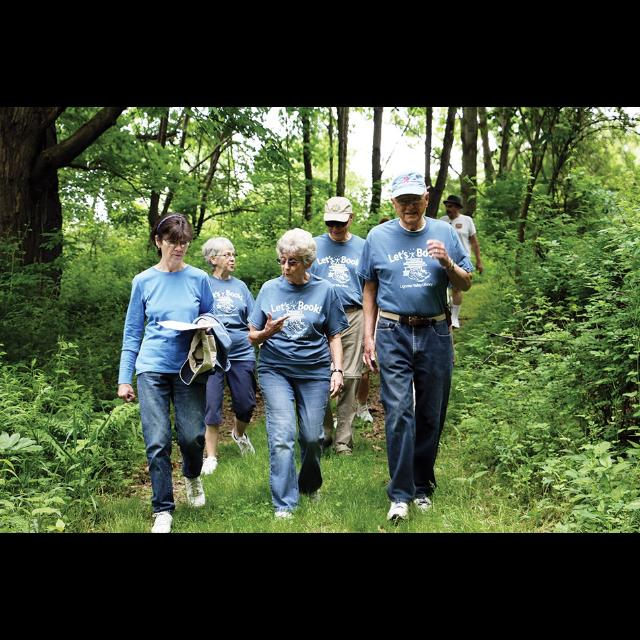head: (392, 177, 431, 225), (155, 215, 191, 265), (278, 234, 314, 282), (325, 197, 355, 241), (207, 236, 237, 274), (445, 200, 463, 218)
person: (354, 169, 476, 529), (245, 227, 352, 523), (288, 194, 384, 463), (186, 236, 264, 478), (430, 192, 486, 332)
